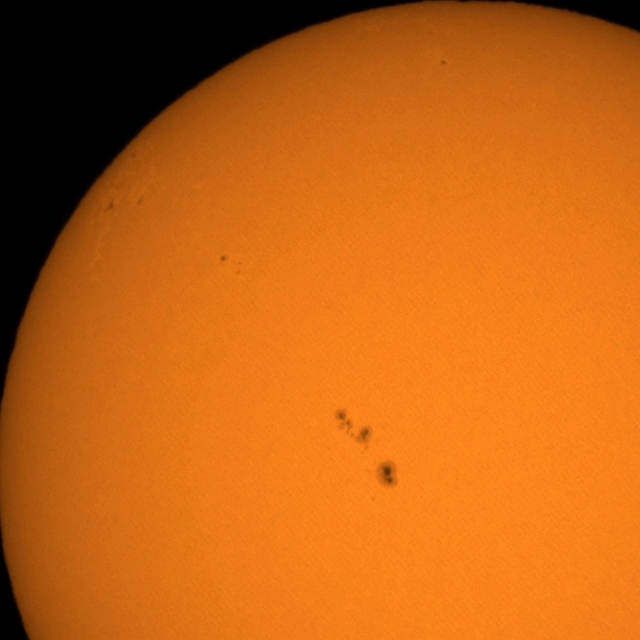sunspot: (334, 407, 372, 447), (375, 460, 399, 490), (103, 199, 115, 215), (135, 195, 145, 208), (219, 254, 229, 263), (440, 59, 448, 66)
